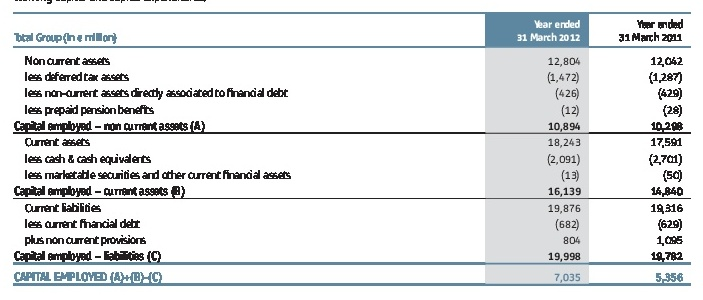table: (0, 0, 703, 300)
